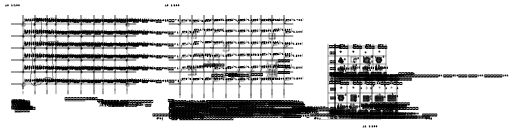room: (254, 69, 260, 84), (266, 69, 272, 84), (231, 57, 242, 64), (231, 103, 242, 110), (333, 54, 347, 59), (333, 63, 347, 68), (333, 69, 347, 74), (337, 103, 345, 110), (337, 57, 345, 64), (276, 88, 284, 95), (298, 53, 302, 60), (265, 53, 269, 60), (275, 53, 279, 60), (308, 53, 312, 60), (287, 53, 290, 60), (149, 120, 154, 124), (149, 43, 154, 47), (14, 120, 18, 124), (15, 43, 19, 47), (225, 8, 227, 10), (419, 54, 421, 56), (419, 6, 421, 8)
wall: (254, 69, 260, 84), (266, 69, 272, 84), (333, 54, 347, 59), (333, 63, 347, 68), (333, 69, 347, 74), (265, 53, 269, 60), (275, 53, 279, 60), (308, 53, 312, 60), (220, 20, 232, 22), (287, 53, 290, 60), (236, 106, 238, 113), (252, 106, 254, 113), (431, 27, 434, 31), (236, 91, 238, 97), (313, 91, 315, 97), (498, 14, 503, 16), (482, 14, 487, 16), (339, 46, 341, 51), (325, 61, 327, 66), (313, 61, 315, 66), (325, 107, 327, 112), (236, 76, 238, 81), (313, 46, 315, 51), (313, 107, 315, 112), (431, 25, 434, 28), (476, 73, 478, 77), (481, 73, 483, 77), (476, 75, 478, 79), (427, 27, 429, 31), (466, 14, 470, 16), (221, 91, 223, 95), (221, 76, 223, 80), (236, 46, 238, 50), (221, 61, 223, 65), (313, 122, 315, 126), (325, 122, 327, 126), (355, 91, 357, 95), (355, 76, 357, 80), (15, 122, 17, 125), (151, 122, 153, 125), (15, 45, 17, 48), (151, 45, 153, 48), (481, 76, 483, 79), (427, 25, 429, 28), (297, 91, 298, 97), (341, 61, 342, 67), (341, 76, 342, 82), (264, 91, 265, 97), (356, 122, 358, 125), (325, 91, 326, 97), (252, 91, 253, 97), (325, 76, 326, 82), (280, 91, 281, 97), (341, 107, 342, 113), (251, 61, 252, 66), (252, 46, 253, 51), (280, 76, 281, 81), (280, 107, 281, 112), (297, 76, 298, 81), (297, 107, 298, 112), (341, 91, 342, 96), (312, 76, 313, 81), (325, 46, 326, 51), (221, 45, 222, 50), (356, 46, 357, 51), (264, 107, 265, 112), (235, 61, 236, 66), (30, 75, 32, 77), (30, 60, 32, 62), (264, 76, 265, 80), (252, 122, 253, 126), (280, 61, 281, 65), (297, 61, 298, 65), (340, 122, 341, 126), (264, 46, 265, 50), (280, 46, 281, 50), (297, 46, 298, 50), (264, 122, 265, 126), (280, 122, 281, 126), (297, 122, 298, 126), (356, 106, 357, 110), (221, 106, 222, 110), (356, 61, 357, 65), (251, 76, 252, 80), (15, 75, 16, 77), (15, 60, 16, 62), (15, 45, 16, 47), (150, 45, 151, 47), (150, 75, 151, 77), (150, 60, 151, 62), (30, 45, 31, 47), (30, 106, 32, 107), (30, 91, 32, 92), (46, 60, 47, 62), (46, 75, 47, 77), (74, 75, 75, 77), (91, 75, 92, 77), (74, 60, 75, 62), (91, 60, 92, 62), (58, 75, 59, 77), (58, 60, 59, 62), (107, 75, 108, 77), (107, 60, 108, 62), (119, 75, 120, 77), (119, 60, 120, 62), (135, 60, 136, 62), (135, 75, 136, 77), (462, 20, 464, 21), (494, 20, 496, 21), (478, 20, 480, 21), (15, 121, 16, 122), (15, 106, 16, 107), (15, 91, 16, 92), (150, 121, 151, 122), (150, 106, 151, 107), (150, 91, 151, 92), (30, 121, 31, 122), (46, 121, 47, 122), (58, 121, 59, 122), (74, 121, 75, 122), (91, 121, 92, 122), (107, 121, 108, 122), (119, 121, 120, 122), (135, 121, 136, 122), (46, 45, 47, 46), (58, 45, 59, 46), (74, 45, 75, 46), (91, 45, 92, 46), (107, 45, 108, 46), (119, 45, 120, 46), (135, 45, 136, 46), (46, 91, 47, 92), (46, 106, 47, 107), (58, 106, 59, 107), (74, 106, 75, 107), (107, 106, 108, 107), (119, 106, 120, 107), (58, 91, 59, 92), (107, 91, 108, 92), (119, 91, 120, 92), (91, 106, 92, 107), (74, 91, 75, 92), (91, 91, 92, 92), (135, 91, 136, 92), (135, 106, 136, 107), (460, 15, 461, 15), (464, 15, 466, 15), (462, 15, 464, 15), (492, 15, 493, 15), (497, 15, 498, 15), (493, 15, 495, 15), (495, 15, 497, 15), (476, 15, 477, 15), (481, 15, 482, 15), (477, 15, 479, 15), (479, 15, 480, 15)
window: (430, 74, 433, 79), (426, 74, 429, 79), (445, 94, 448, 96), (478, 94, 481, 96), (461, 48, 464, 50), (477, 48, 480, 50), (462, 94, 464, 96), (428, 94, 430, 96), (448, 68, 450, 70), (494, 48, 496, 50), (445, 49, 448, 50), (5, 11, 7, 12), (468, 57, 470, 58), (460, 57, 462, 58), (452, 57, 454, 58), (432, 57, 434, 58), (461, 92, 463, 93), (427, 92, 429, 93), (431, 71, 432, 73), (429, 71, 430, 73), (451, 77, 453, 78), (424, 57, 426, 58), (456, 57, 458, 58), (445, 92, 447, 93), (440, 57, 442, 58), (460, 65, 461, 67), (476, 57, 478, 58), (480, 57, 482, 58), (478, 92, 480, 93), (428, 49, 430, 50), (428, 46, 430, 47), (424, 8, 426, 9), (428, 64, 429, 66), (445, 46, 447, 47), (452, 8, 454, 9), (440, 8, 442, 9), (452, 28, 453, 30), (1, 19, 2, 20), (10, 15, 11, 16), (1, 18, 2, 19), (7, 18, 8, 19), (10, 14, 11, 15), (16, 14, 17, 15), (17, 15, 18, 16), (11, 22, 12, 23), (11, 23, 12, 24), (11, 18, 12, 19), (11, 19, 12, 20), (14, 15, 15, 16), (13, 14, 14, 15), (7, 19, 8, 20), (17, 18, 18, 19), (17, 19, 18, 20), (17, 22, 18, 23), (1, 22, 2, 23), (14, 22, 15, 23), (14, 18, 15, 19), (14, 19, 15, 20), (3, 22, 4, 23), (3, 19, 4, 20), (3, 18, 4, 19), (1, 23, 2, 24), (3, 23, 4, 24), (7, 22, 8, 23), (445, 66, 446, 67), (469, 57, 470, 58), (464, 57, 465, 58), (465, 57, 466, 58), (460, 57, 461, 58), (443, 57, 444, 58), (444, 57, 445, 58), (448, 57, 449, 58), (452, 57, 453, 58), (436, 57, 437, 58), (432, 57, 433, 58), (434, 76, 435, 77), (451, 77, 452, 78), (446, 72, 447, 73), (448, 61, 449, 62), (446, 62, 447, 63), (444, 61, 445, 62), (428, 57, 429, 58), (447, 65, 448, 66), (463, 65, 464, 66), (476, 57, 477, 58), (481, 57, 482, 58), (485, 57, 486, 58), (473, 57, 474, 58), (484, 79, 485, 80), (474, 78, 475, 79), (474, 63, 475, 64), (482, 62, 483, 63), (481, 62, 482, 63), (476, 62, 477, 63), (475, 68, 476, 69), (474, 65, 475, 66), (425, 30, 426, 31), (433, 12, 434, 13), (428, 12, 429, 13), (425, 18, 426, 19), (425, 16, 426, 17), (428, 8, 429, 9), (432, 8, 433, 9), (436, 8, 437, 9), (431, 64, 432, 65), (443, 8, 444, 9), (444, 8, 445, 9), (448, 8, 449, 9), (452, 8, 453, 9), (447, 23, 448, 24), (449, 12, 450, 13), (448, 12, 449, 13), (443, 12, 444, 13), (442, 18, 443, 19), (441, 15, 442, 16), (446, 12, 447, 13), (1, 15, 2, 15), (1, 21, 2, 21), (3, 15, 4, 15), (7, 15, 8, 15), (1, 17, 2, 17), (7, 17, 8, 17), (17, 17, 18, 17), (11, 21, 12, 21), (11, 17, 12, 17), (7, 21, 8, 21), (17, 21, 18, 21), (14, 21, 15, 21), (14, 17, 15, 17), (3, 21, 4, 21), (3, 17, 4, 17), (445, 66, 446, 66), (431, 72, 432, 72), (429, 72, 430, 72), (449, 69, 450, 69), (449, 61, 449, 62), (444, 61, 444, 62), (460, 66, 461, 66), (478, 62, 478, 63), (475, 68, 476, 68), (475, 66, 475, 66), (425, 14, 425, 14), (425, 14, 426, 14), (432, 12, 432, 13), (427, 12, 427, 13), (426, 18, 426, 19), (430, 12, 430, 13), (435, 31, 436, 31), (428, 65, 429, 65), (452, 29, 453, 29), (447, 23, 449, 23), (441, 14, 442, 14), (445, 12, 445, 13), (442, 16, 442, 16)
